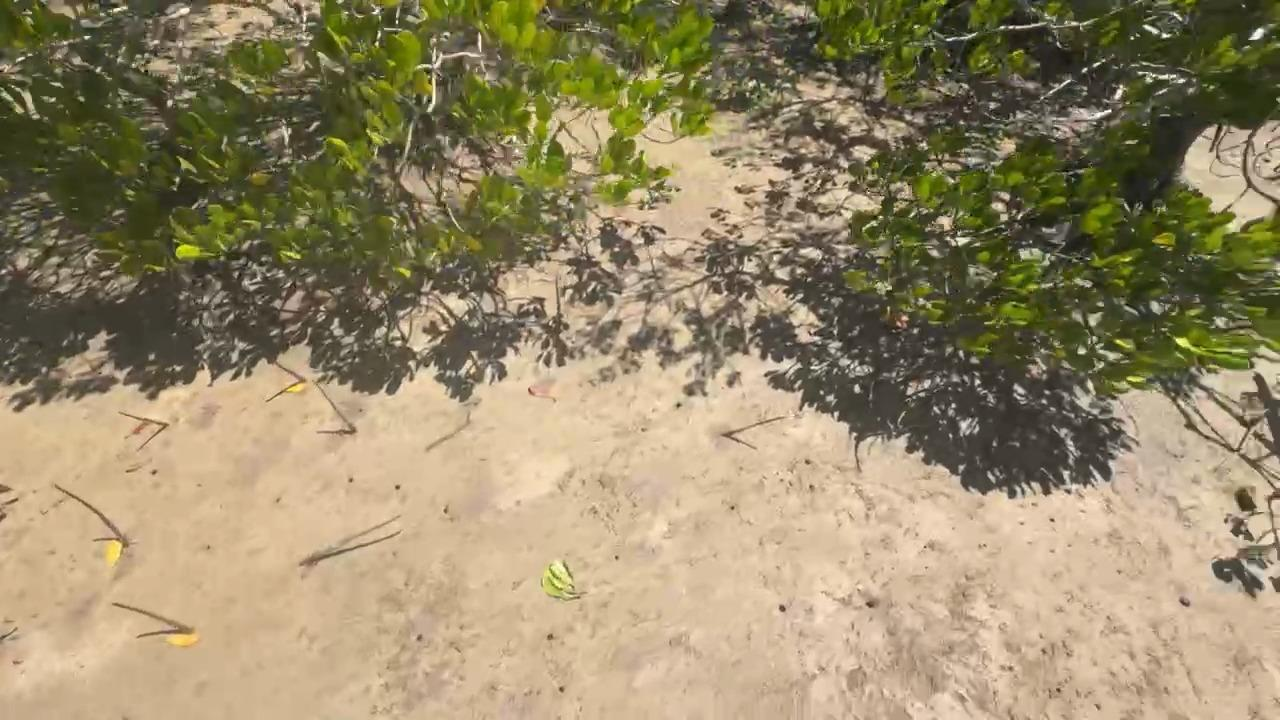Tree: (300, 513, 403, 567), (54, 485, 130, 546), (110, 603, 194, 633), (312, 383, 357, 435), (723, 415, 786, 436), (118, 409, 170, 427), (275, 365, 307, 381)
